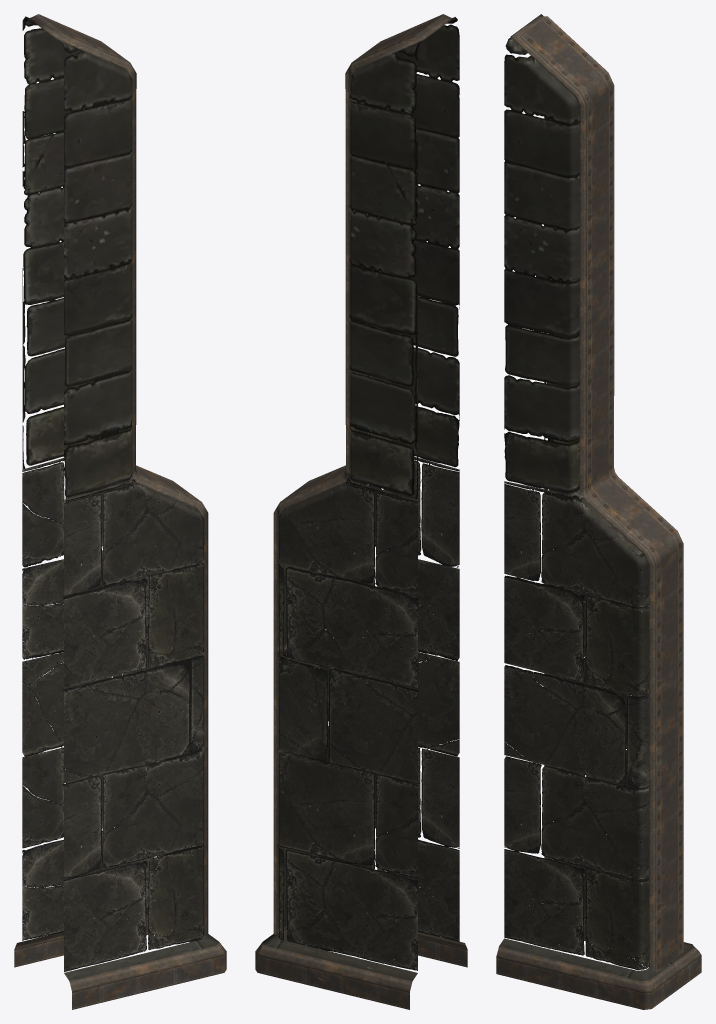
The picture shows the model from 3 angles, left to right: view 1: azimuth 30°, elevation 25°; view 2: azimuth 150°, elevation 25°; view 3: azimuth 330°, elevation 25°; orthographic projection. The views are drawn at different scales.
Visible parts, largest first — view 1: SM_Dowdun_Buttress_A_04_LOD0; view 2: SM_Dowdun_Buttress_A_04_LOD0; view 3: SM_Dowdun_Buttress_A_04_LOD0.
Boxes of the visible parts, x1,y1,x2,y2 form: SM_Dowdun_Buttress_A_04_LOD0: [14, 14, 226, 1009]; SM_Dowdun_Buttress_A_04_LOD0: [255, 14, 467, 1009]; SM_Dowdun_Buttress_A_04_LOD0: [496, 14, 701, 1009].
Size of the model in its own units: 2.2 by 12.82 by 1.4.
2 materials, 2 textured.
